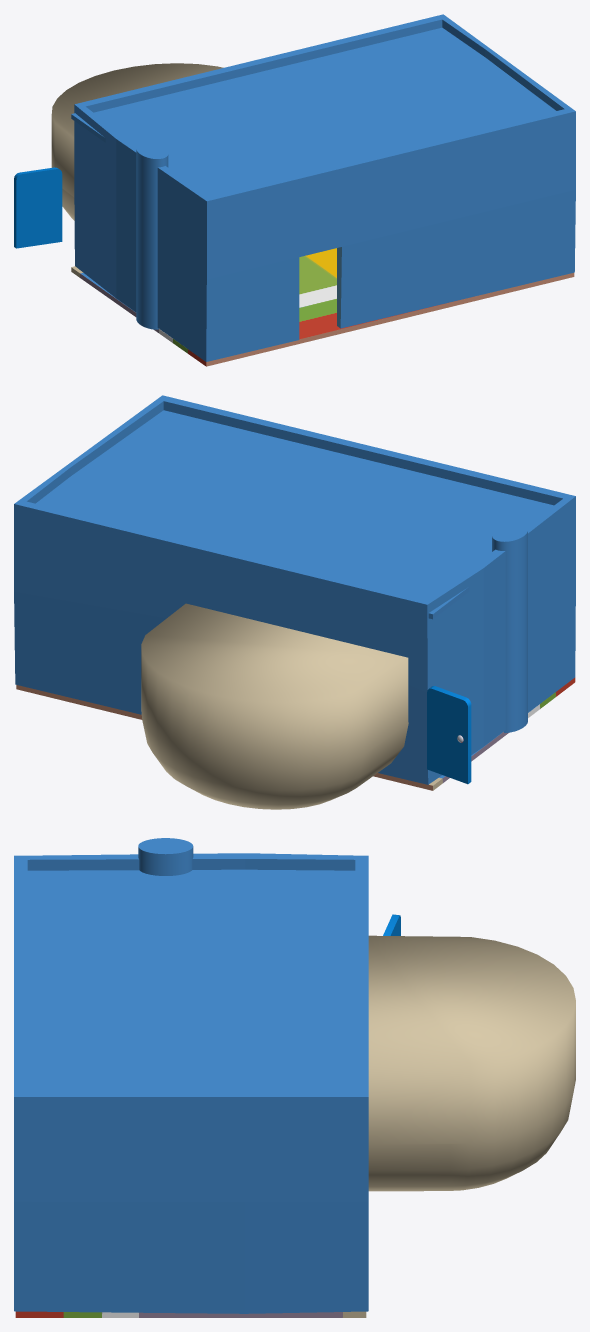
Rendered from start_room.fbx.
3 renders of one model, top to bottom at view 1: azimuth 30°, elevation 25°; view 2: azimuth 150°, elevation 25°; view 3: azimuth 270°, elevation 25°, orthographic. The views are drawn at different scales.
Visible parts, largest first — view 1: walls, roof, Plane, back, pillar, door_Curve; view 2: walls, roof, back, pillar, door_Curve, Plane; view 3: walls, roof, back, Plane, pillar.
Part boxes in pixels (x1,y1,x2,y2): walls: (74,14,575,361); roof: (71,27,555,195); Plane: (71,248,574,366); back: (51,63,223,220); pillar: (136,143,168,329); door_Curve: (14,167,62,248); walls: (14,395,575,784); roof: (36,410,553,619); back: (141,603,408,809); pillar: (492,523,527,732); door_Curve: (427,686,471,784); Plane: (16,677,575,790); walls: (14,853,368,1313); roof: (27,869,355,1093); back: (368,935,575,1191); Plane: (15,1311,366,1317); pillar: (138,838,193,875).
Size of the model in its own units: 860 by 343 by 749.
